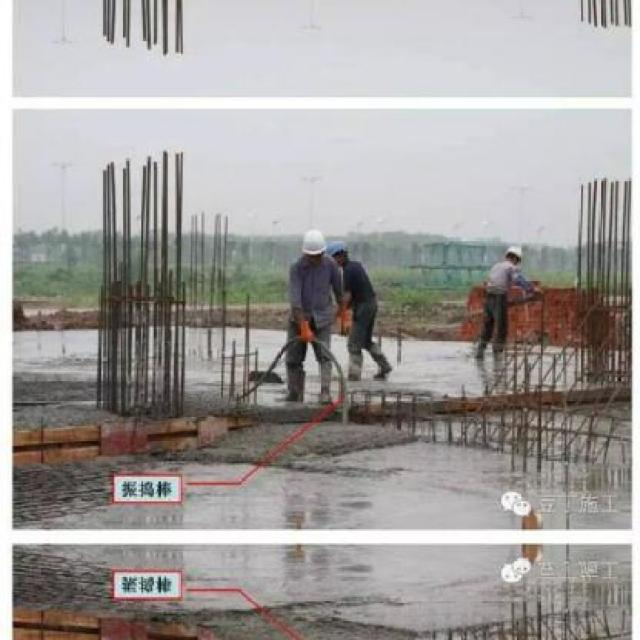helmet: (301, 225, 327, 261), (328, 235, 349, 267), (504, 242, 524, 266)
